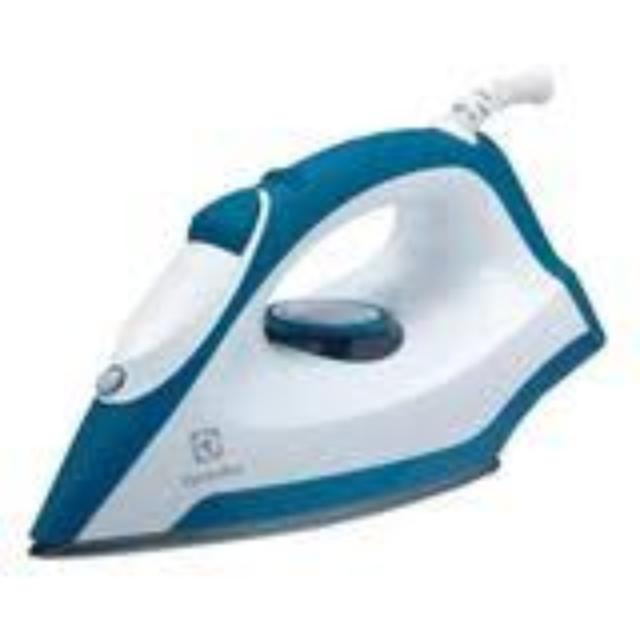Clothes-Iron: (81, 90, 553, 562)
